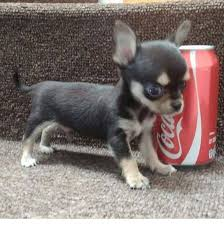chihuahua: (8, 16, 217, 185)
